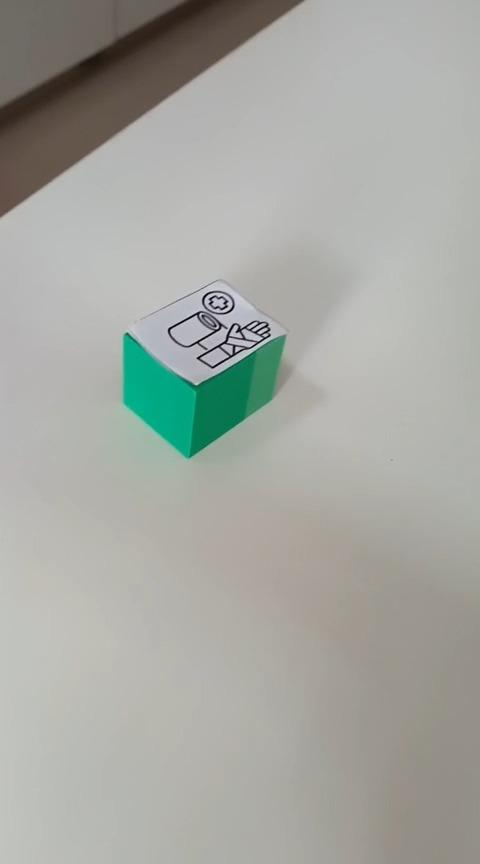Bandages: (121, 277, 288, 459)
